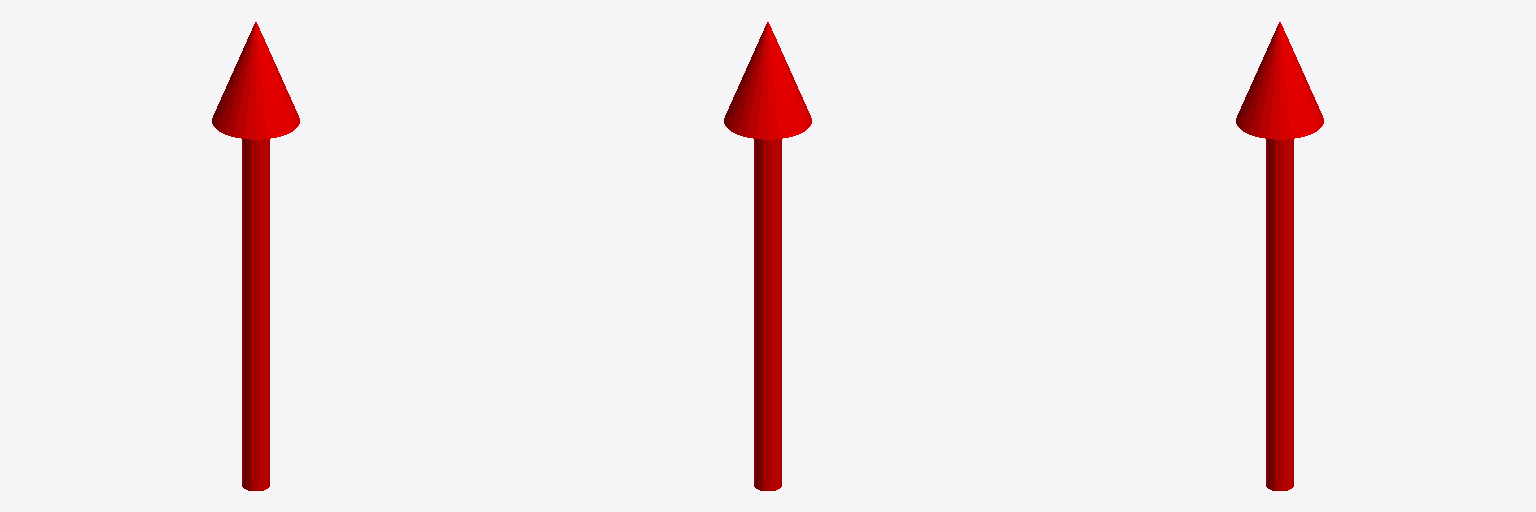
URDF robot description (arrow):
<?xml version="1.0" ?>
<robot name="arrow">
    <link name="arrow_link">
        <visual>
            <geometry>
                <mesh filename="arrow-shorter.obj" />
            </geometry>
            <origin xyz="0 0 0" rpy="0 0 0"/>
            <material name="red">
            <color rgba="1 0 0 1"/>
            </material>
        </visual>
    </link>
</robot>

--- Facts derived from the render (not from the file) ---
Views: 3 orthographic renders of the robot side by side, from view 1: azimuth 30°, elevation 25°; view 2: azimuth 150°, elevation 25°; view 3: azimuth 270°, elevation 25°.
Robot: arrow — 1 links, 0 joints (none); root link arrow_link; default pose: every joint at zero.
Visible links, largest first — view 1: arrow_link; view 2: arrow_link; view 3: arrow_link.
Boxes of the visible links, bbox=[...] form: arrow_link: bbox=[212, 22, 299, 490]; arrow_link: bbox=[724, 22, 811, 490]; arrow_link: bbox=[1236, 22, 1323, 490].
Size in the robot's own frame: 16 by 16 by 92.5 metres.
1 mesh visuals loaded from 1 distinct referenced files (1 OBJ).